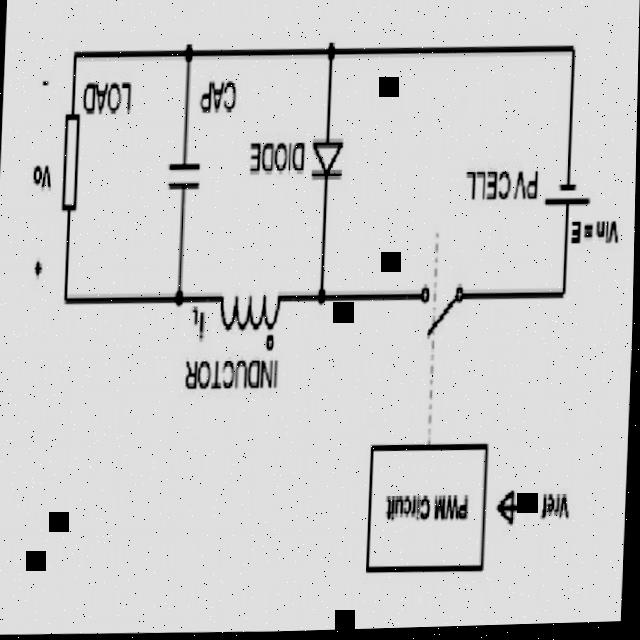capacitor: (160, 145, 205, 211)
diode: (304, 125, 345, 199)
inductor: (207, 264, 295, 359)
node: (168, 273, 190, 322), (179, 34, 197, 79), (320, 33, 340, 71), (313, 280, 330, 320)
resistor: (52, 97, 87, 226)
source: (538, 164, 590, 225)
switch: (411, 255, 468, 347)
